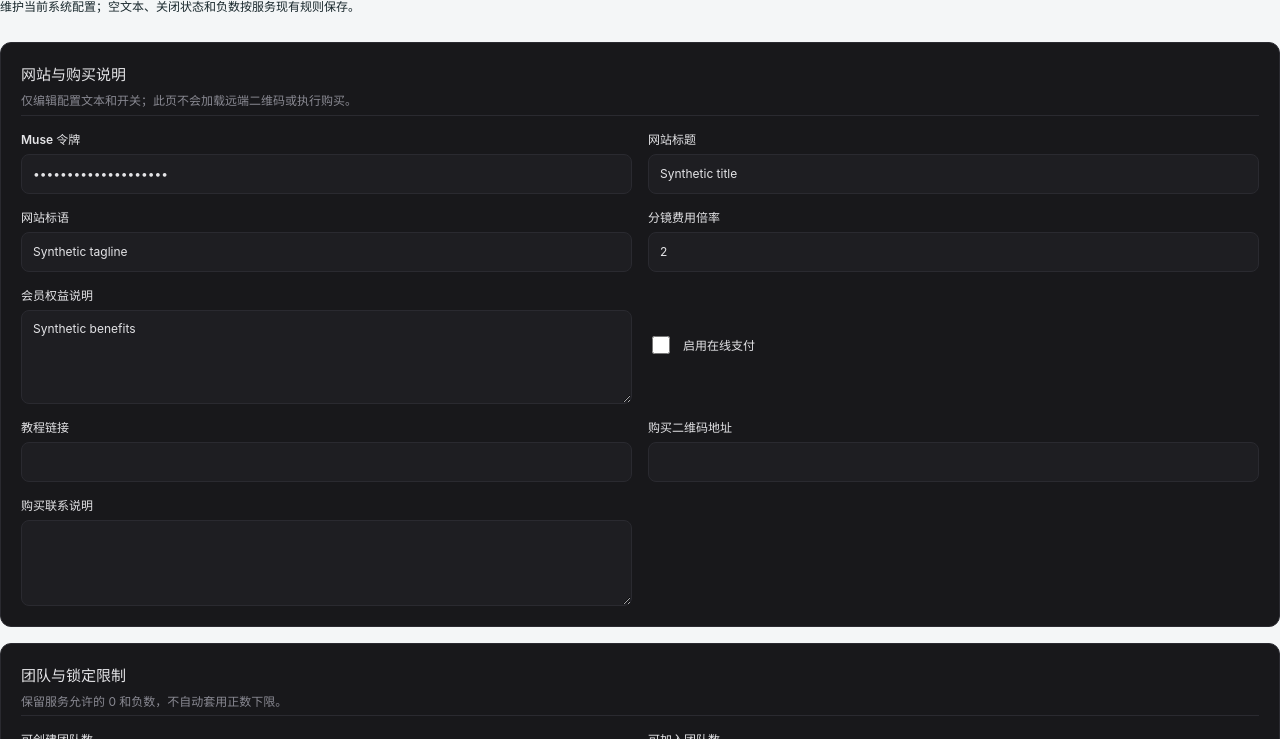
admin system config editor › submits only changed fields and accepts the service's zero-to-default projection
Expected: the checkbox labelled "启用在线支付" is not checked, [652,336,670,354]
Clear the field labelled "网站标题" at (954, 174), box [648,154,1259,194]
(page scrolled)
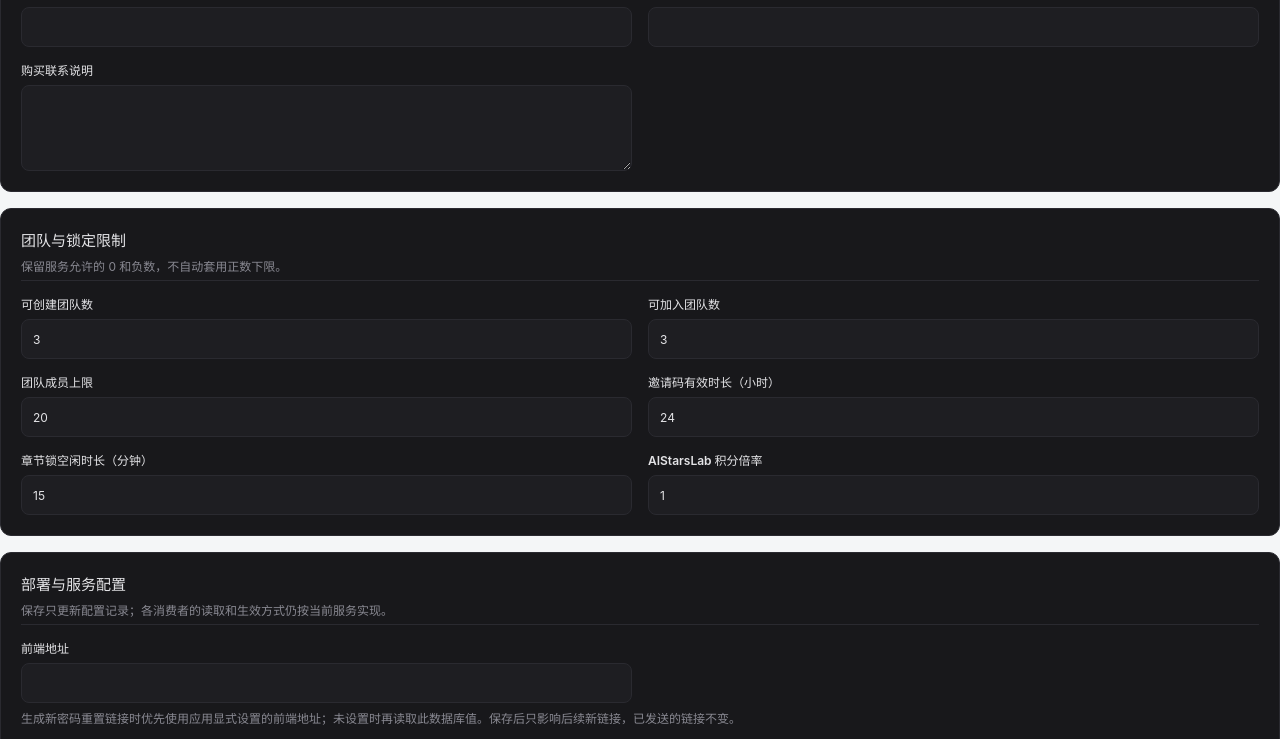
Clear the number field labelled "可创建团队数" at (326, 339), box [21,319,632,359]
(page scrolled)
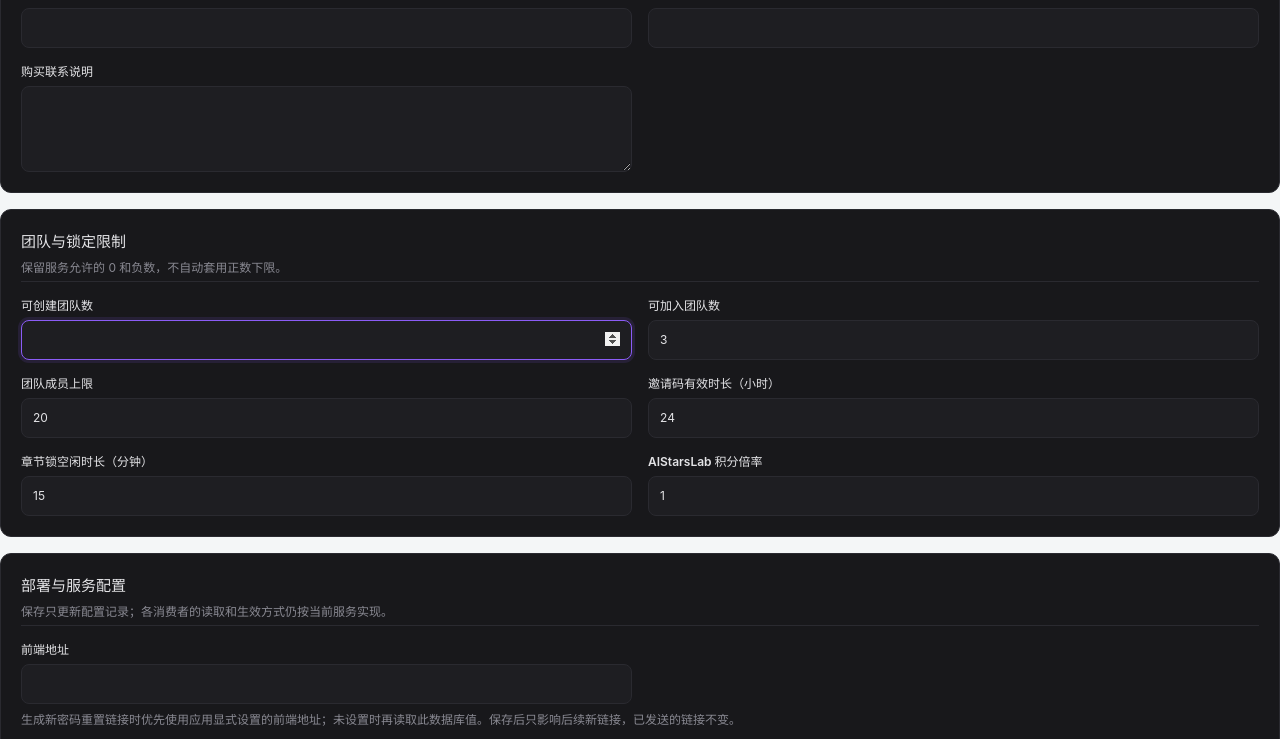
Type "0" into the number field labelled "可创建团队数" at (326, 340), box [21,320,632,360]
(page scrolled)
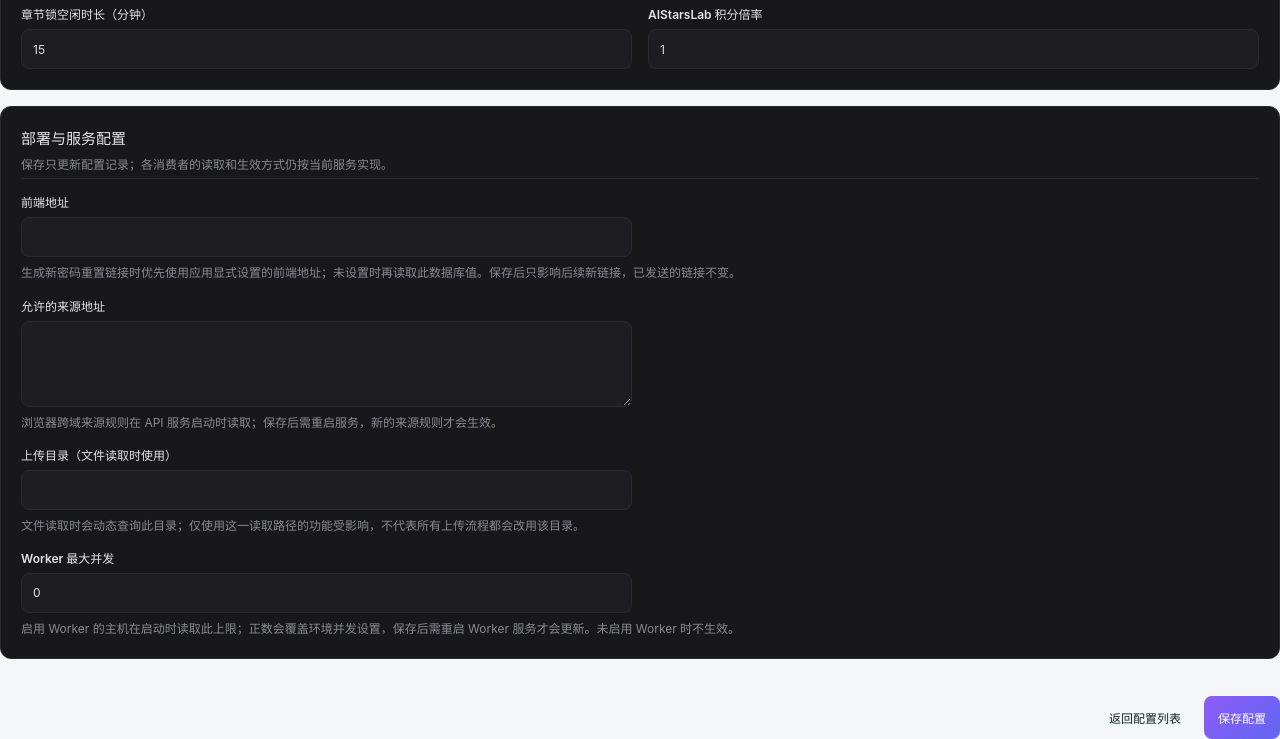
Click the button "保存配置" at (1242, 718), box [1204,696,1279,738]
(page scrolled)
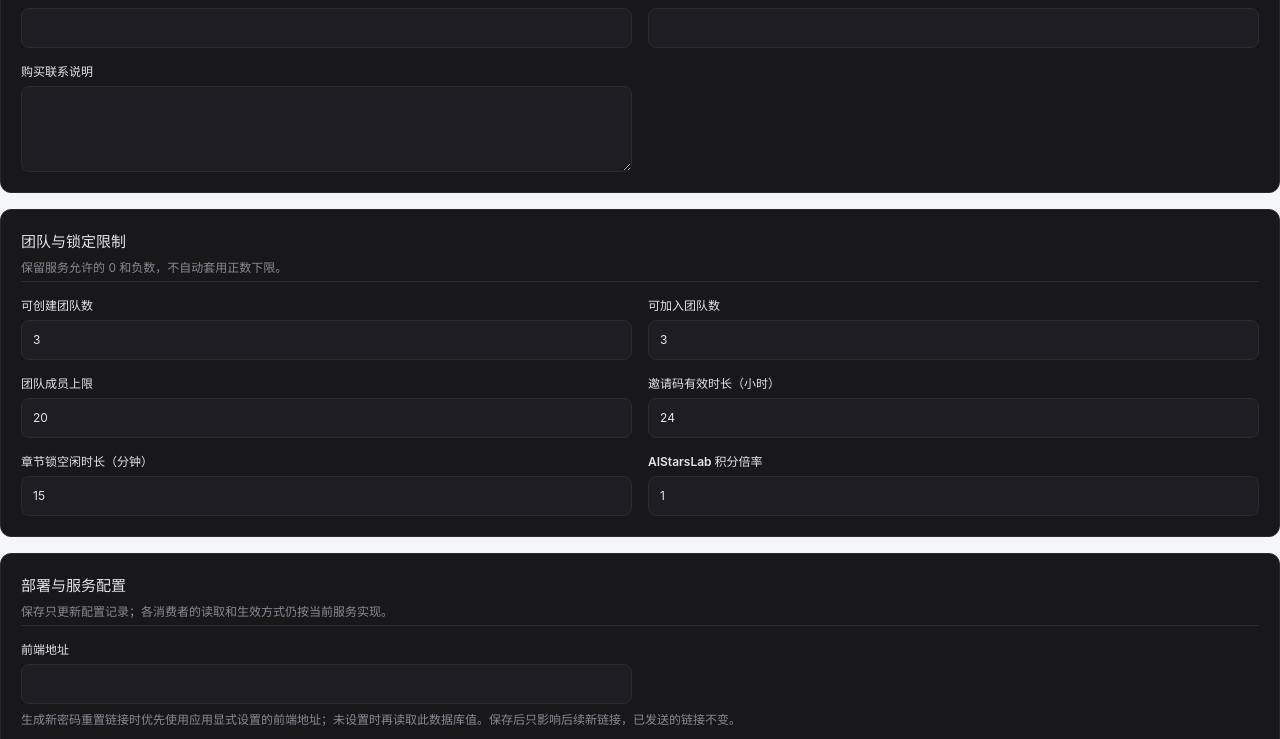
Result: the number field labelled "可创建团队数" holds "3" at [21,320,632,360]
